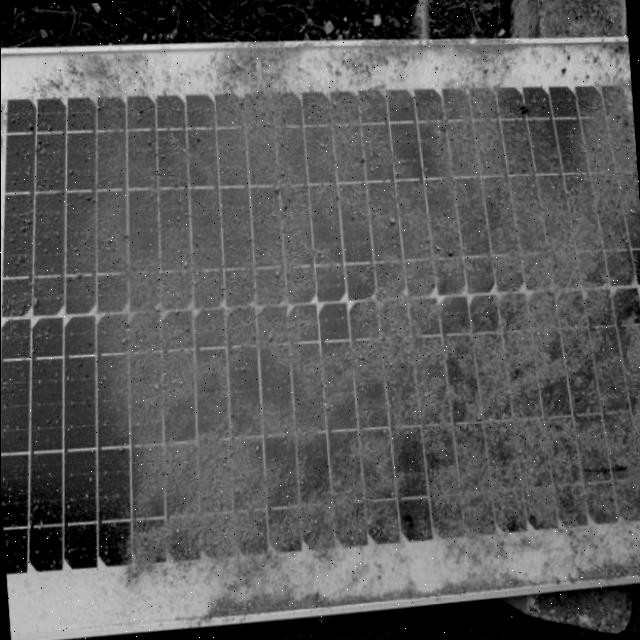Surface Contaminant: (0, 43, 640, 603)
